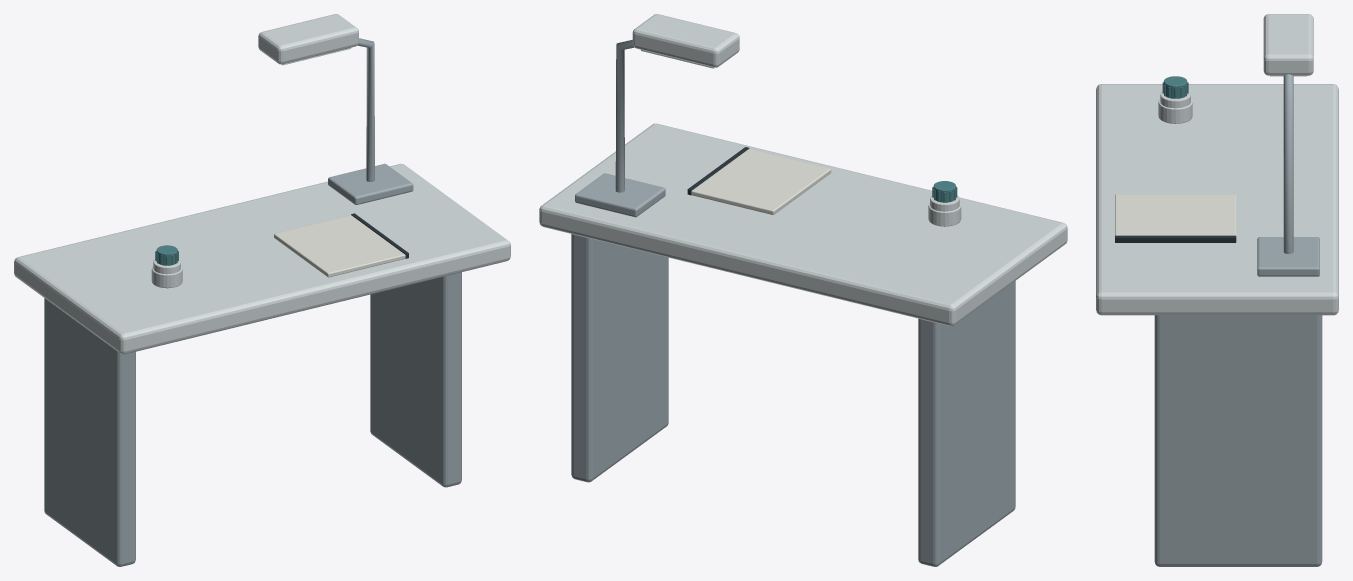
The model's file is RD_LivingDesk.fbx.
3 renders of one model, left to right at view 1: azimuth 30°, elevation 25°; view 2: azimuth 150°, elevation 25°; view 3: azimuth 270°, elevation 25°, orthographic. The views are drawn at different scales.
Parts seen in each view (by area): view 1: RD_LivingDesk; view 2: RD_LivingDesk; view 3: RD_LivingDesk.
Boxes of the visible parts, x1=… form: RD_LivingDesk: x1=14, y1=14, x2=510, y2=566; RD_LivingDesk: x1=539, y1=14, x2=1067, y2=566; RD_LivingDesk: x1=1096, y1=14, x2=1338, y2=566.
Bounding box in the file's own units: 120 × 127 × 58.
